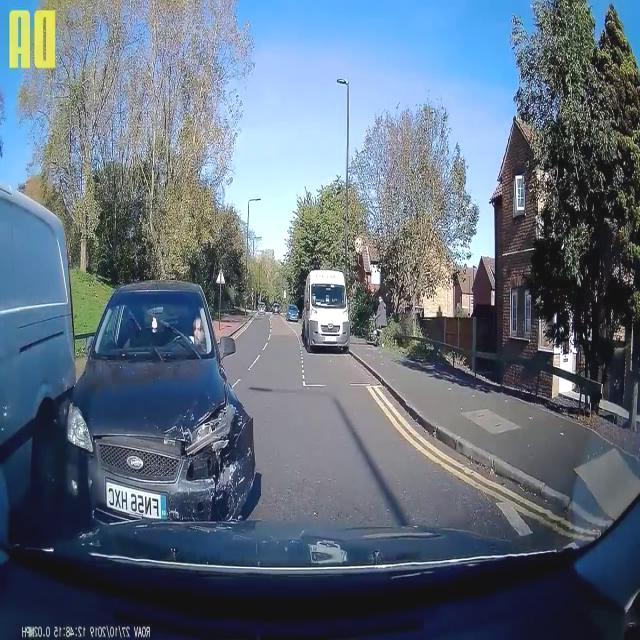accident: (62, 278, 258, 524)
